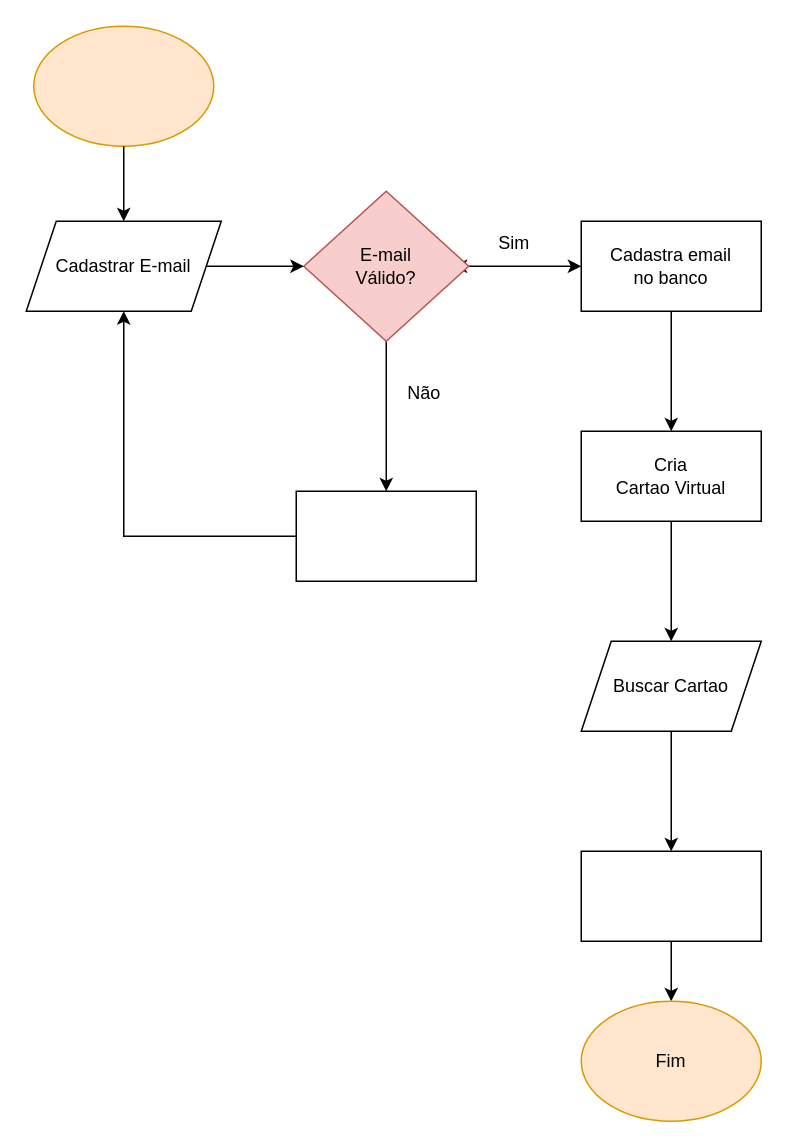
This 788x1148 diagram has some shape labels left out. The shapes that lost their labels are listed below. From the top down, each one's box as (x1, y1, x2, y2) in pixels, then its label:
(32, 25, 214, 146): inicio
(295, 490, 476, 581): Erro/Tente novamente
(580, 850, 761, 941): Numero Cartao Virtual
